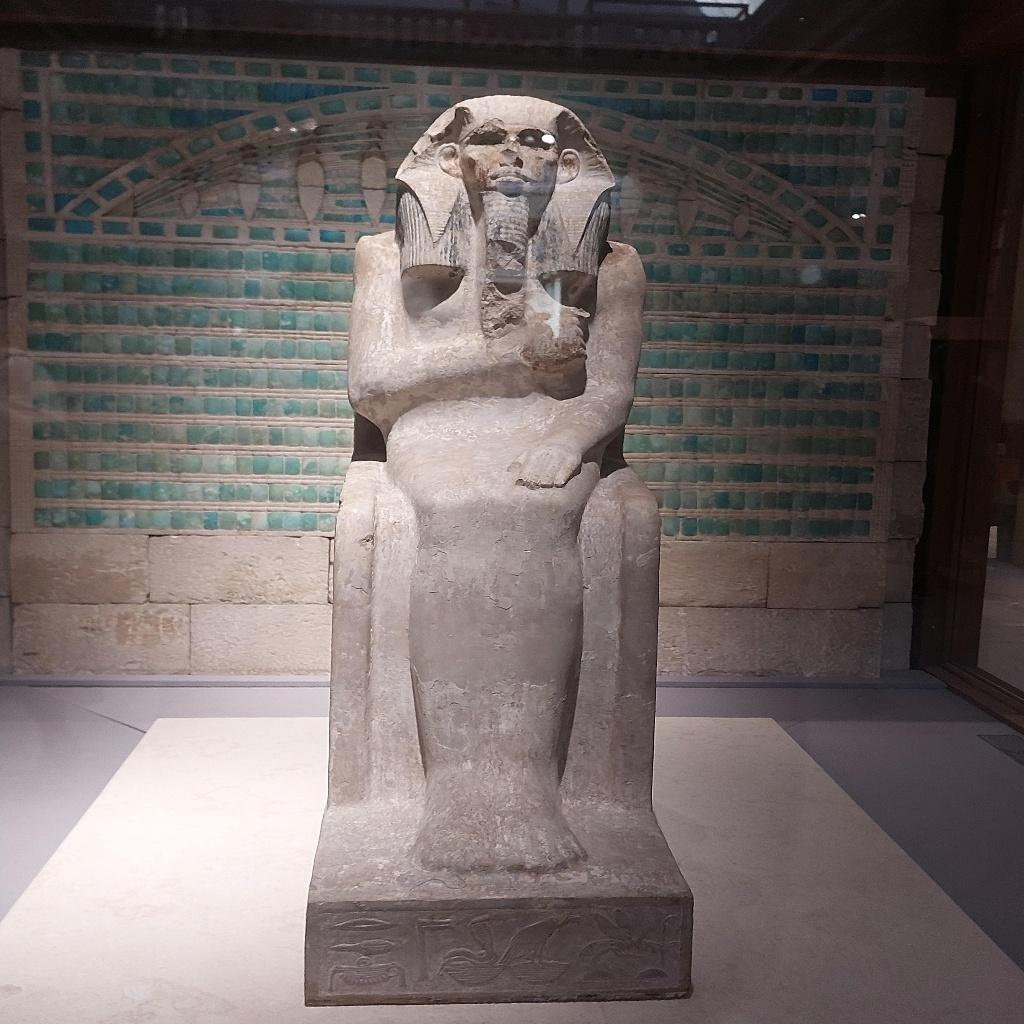Seated Statue of Djoser: (300, 89, 700, 1003)
